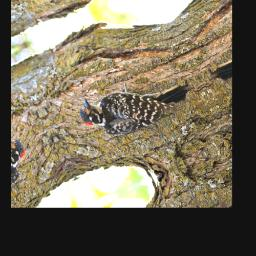Woodpecker: (72, 56, 198, 147)
